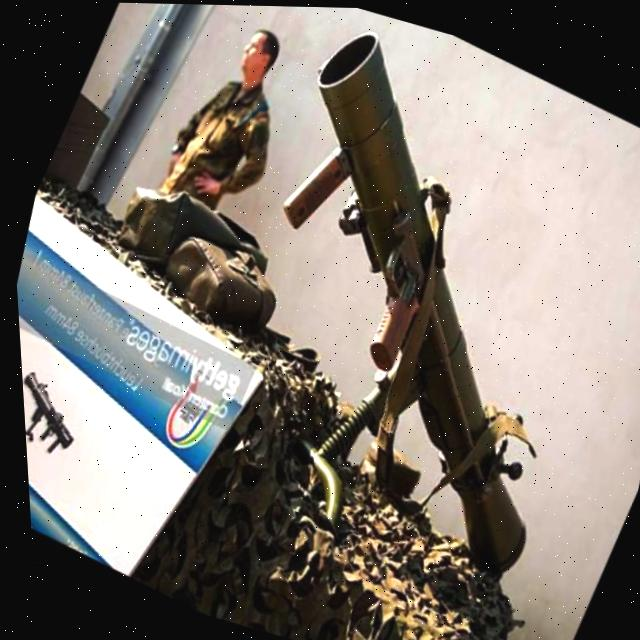rocket: (128, 3, 640, 609)
